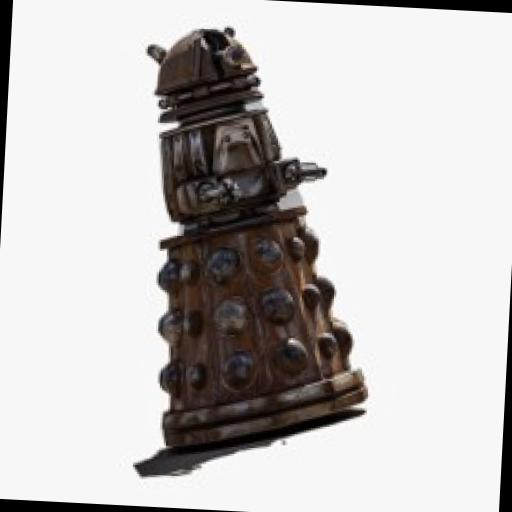dalek: (107, 18, 393, 460)
